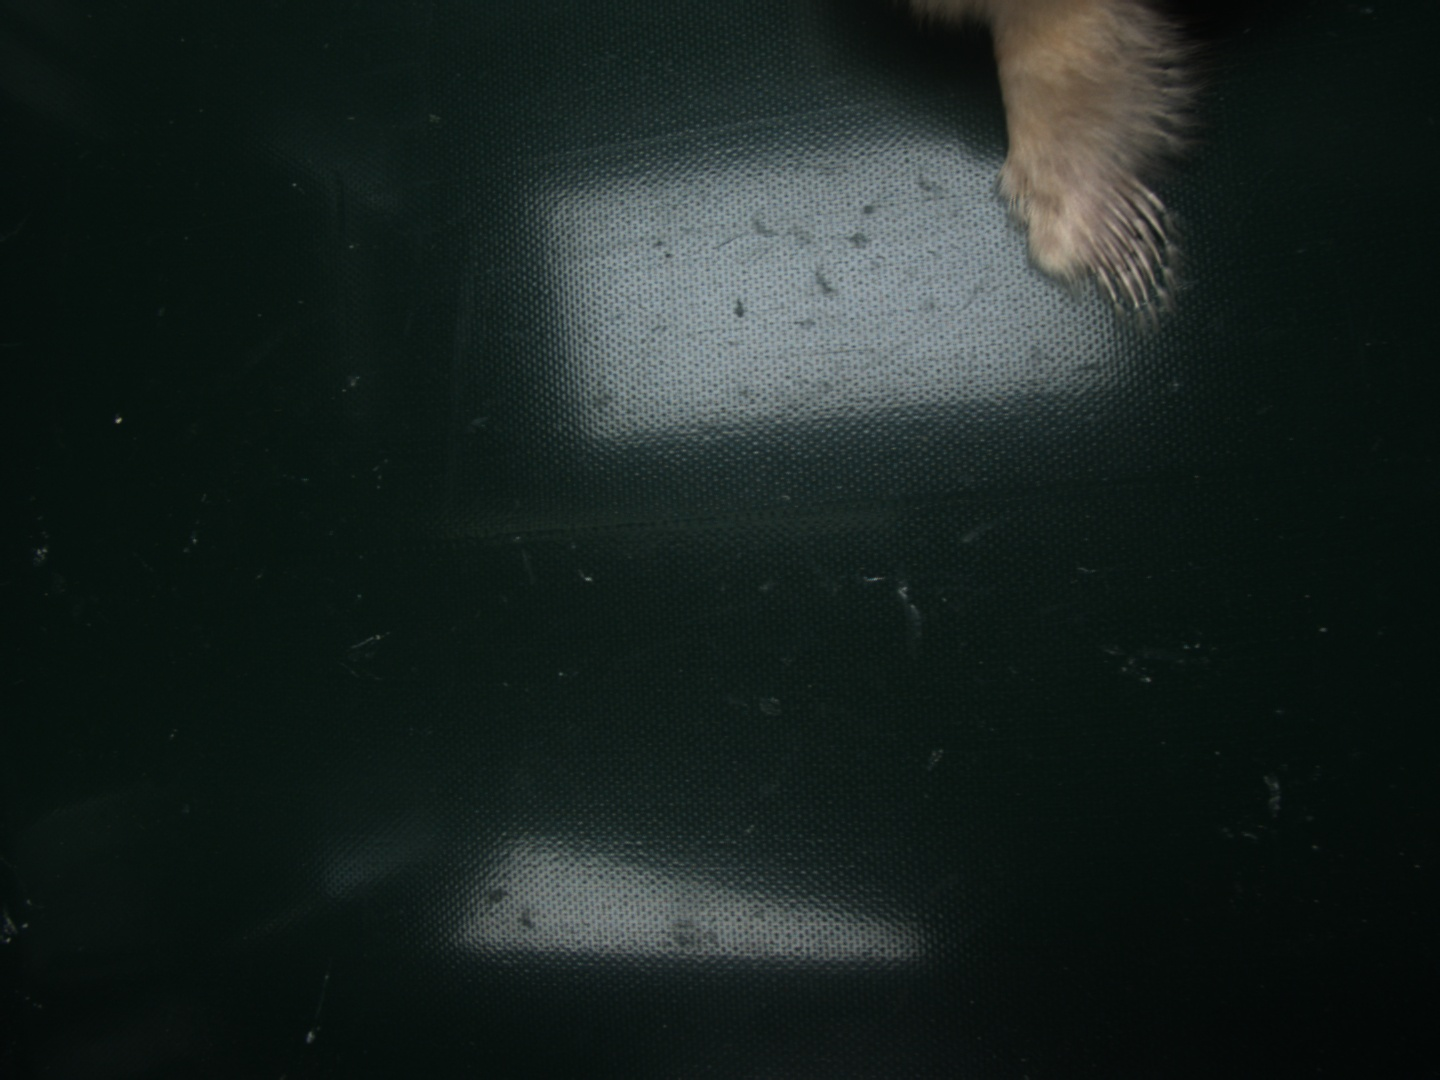female: (1084, 177, 1168, 307)
